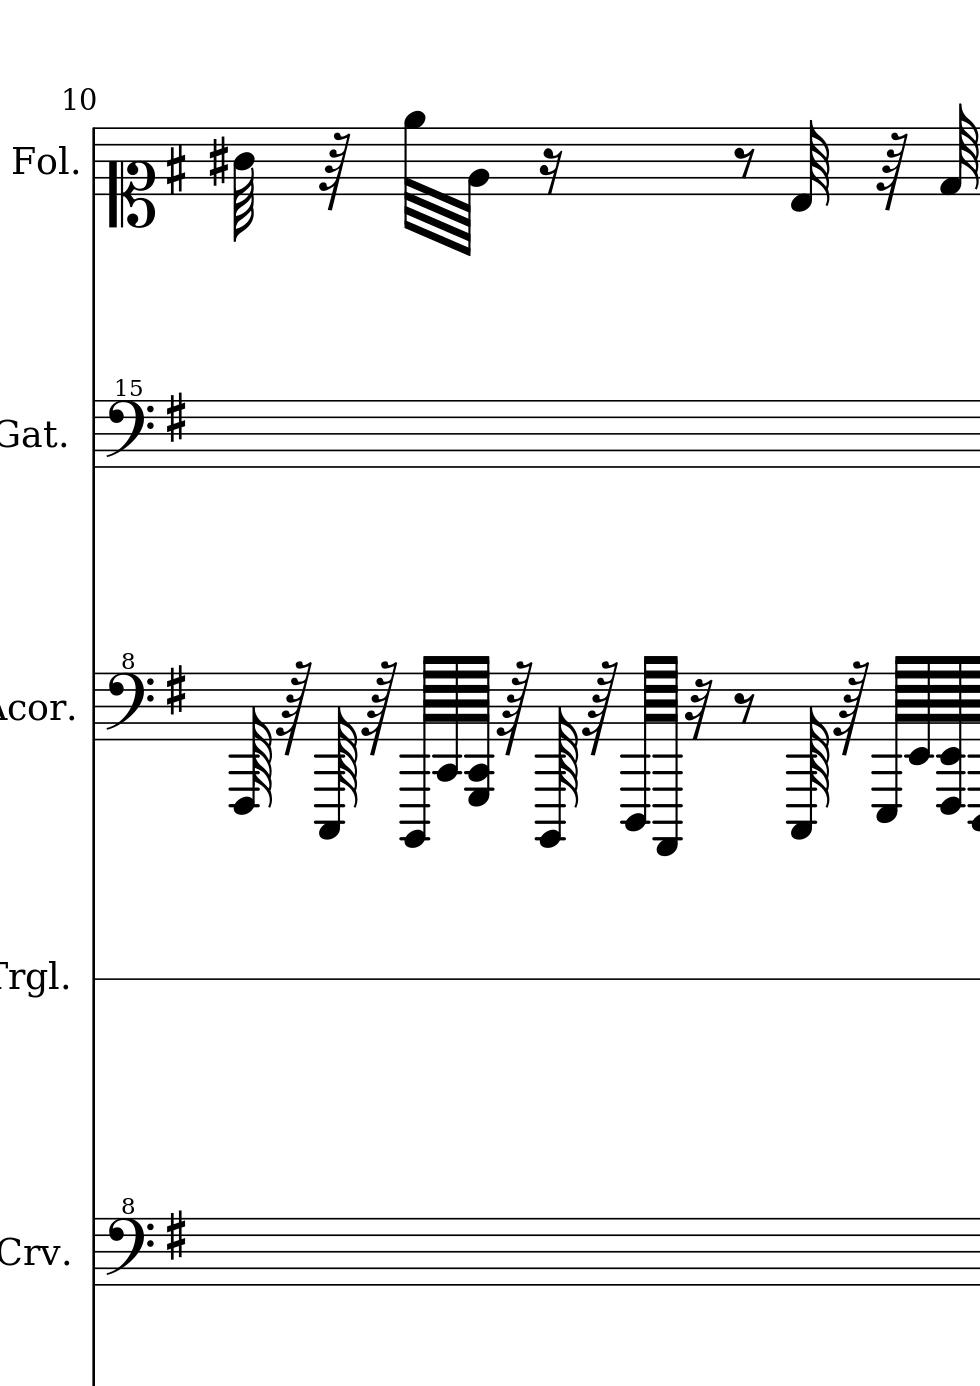0: (77, 84, 97, 115)
1: (62, 85, 77, 115)
128_-10: (620, 654, 653, 832)
128_-2: (906, 654, 935, 766)
128_-4: (432, 655, 465, 782)
128_-8: (229, 671, 275, 815)
128_-9: (873, 655, 906, 824)
64_-1: (789, 117, 829, 213)
64_1: (937, 103, 977, 199)
64_2: (456, 122, 491, 258)
64_4: (230, 126, 258, 239)
64_9: (402, 109, 427, 236)
DHigh_Fclef: (101, 375, 154, 470)
High_Fclef: (100, 650, 156, 743), (101, 1195, 155, 1288)
Rests128: (276, 660, 315, 754), (361, 659, 400, 753), (581, 660, 620, 754), (832, 659, 871, 753), (495, 657, 533, 752)
Rests16: (538, 147, 563, 197)
Rests32: (684, 677, 713, 743)
Rests64: (875, 130, 909, 212)
Rests8: (733, 145, 756, 180), (732, 690, 755, 724)
Sharp: (163, 391, 188, 444), (162, 664, 187, 717), (163, 1209, 187, 1262), (164, 143, 188, 195), (207, 135, 229, 188)
Single_barline: (86, 128, 102, 196), (86, 1220, 101, 1285), (87, 673, 101, 741), (87, 402, 101, 468)
Soprano_Cclef: (106, 124, 156, 230)
